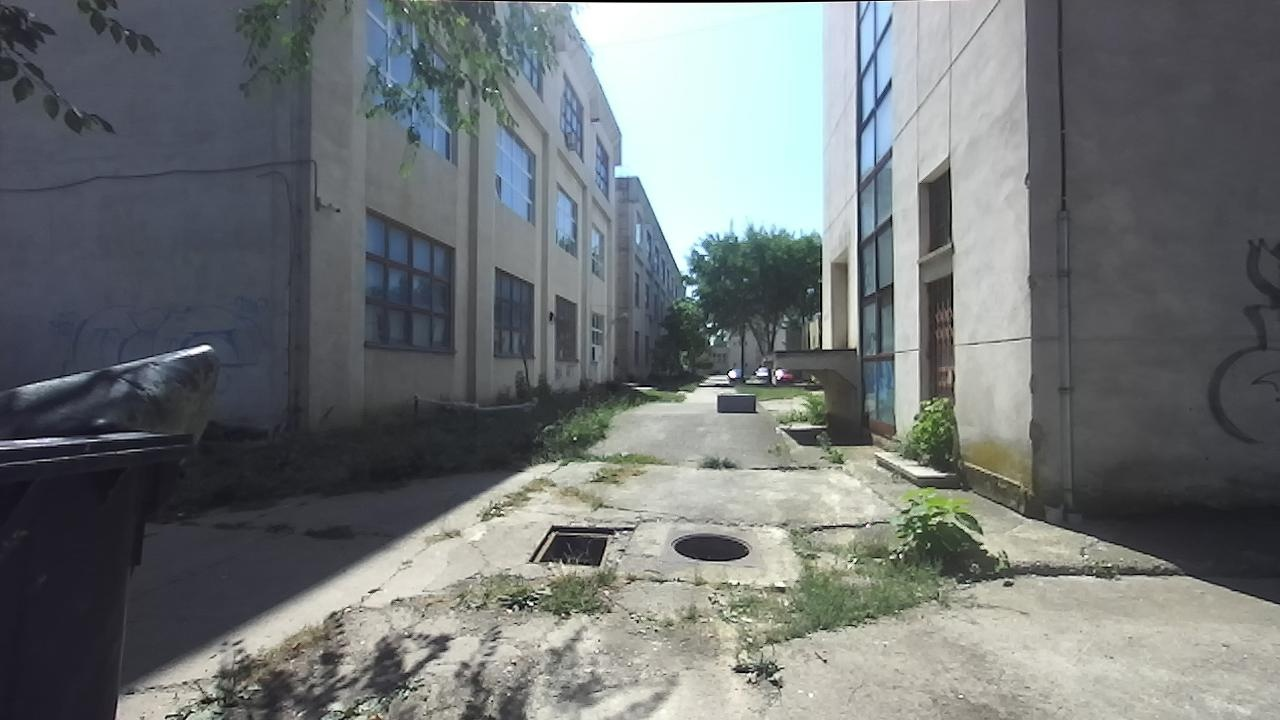drain: (522, 519, 615, 568), (666, 529, 756, 563)
